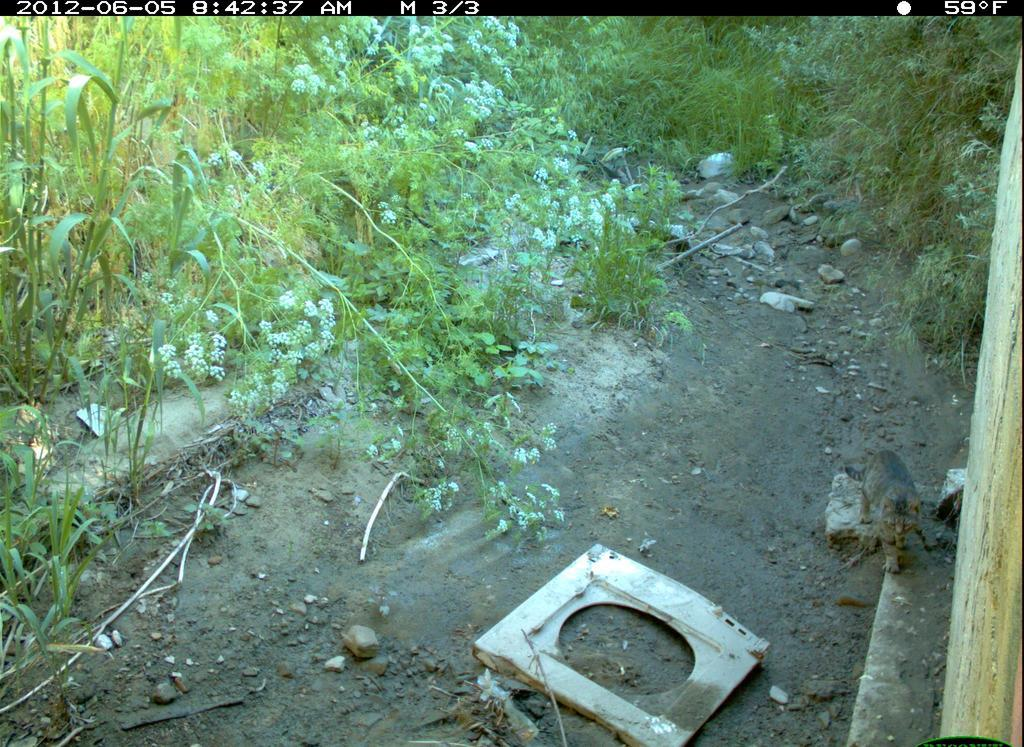cat: (839, 438, 941, 587)
